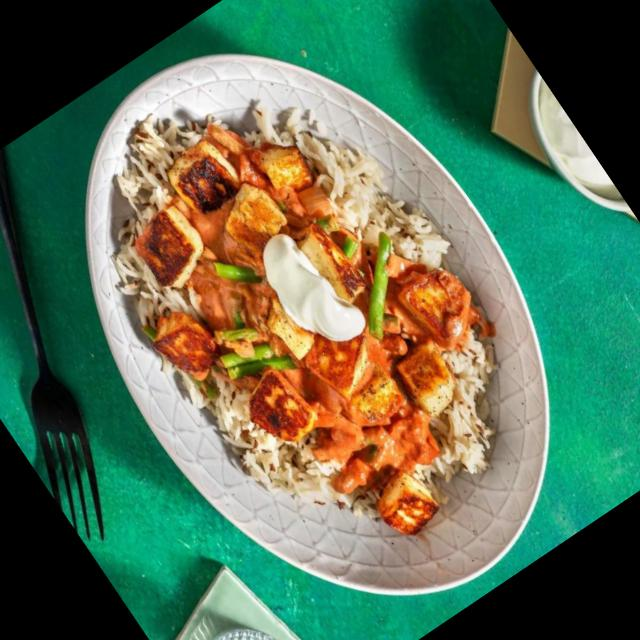rice: (444, 411, 482, 452)
